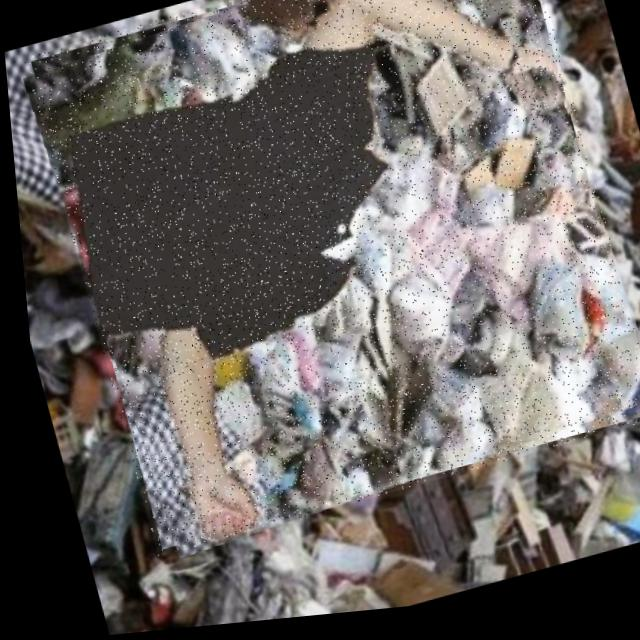Person in Rubble: (17, 0, 640, 566)
